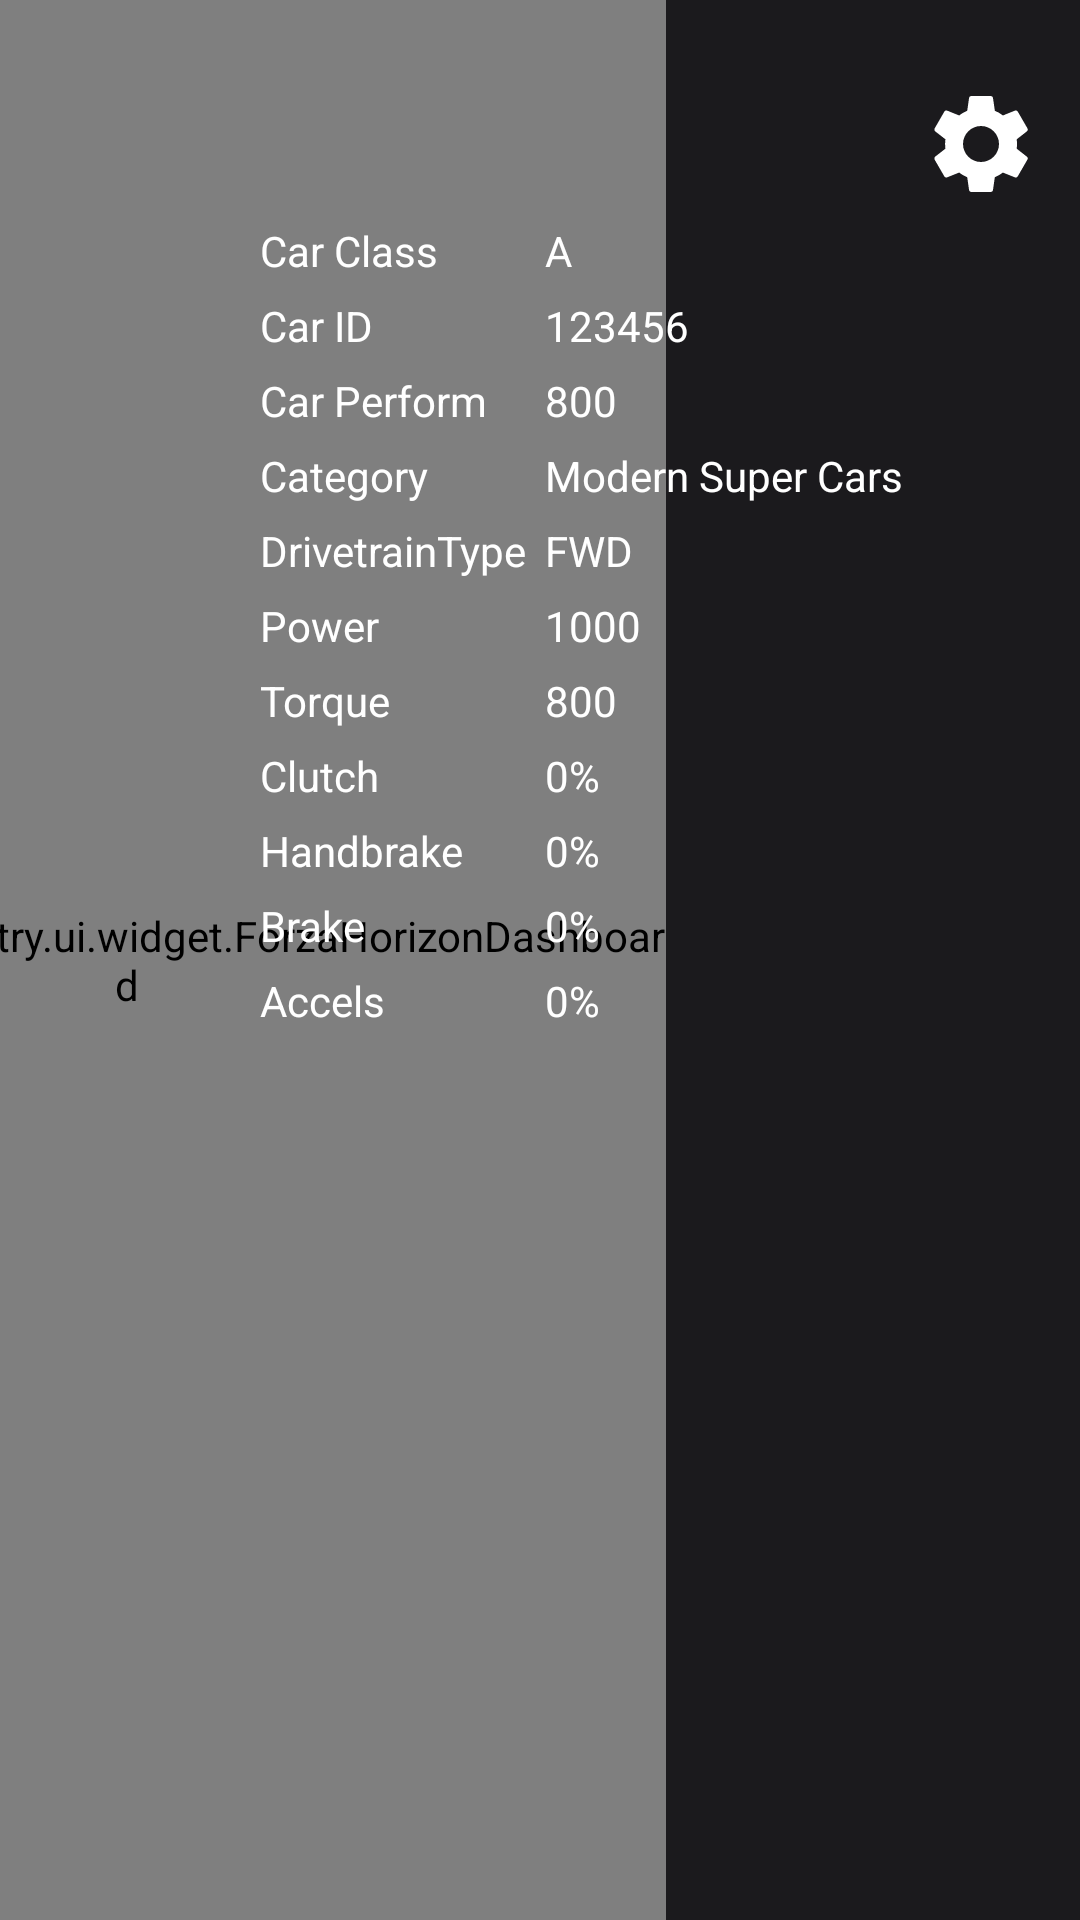

Named icons in this screenshot (1080px×1920px) and their bounding boxes, (x1,y1,x2,y2):
settings: (934,96,1028,192)
